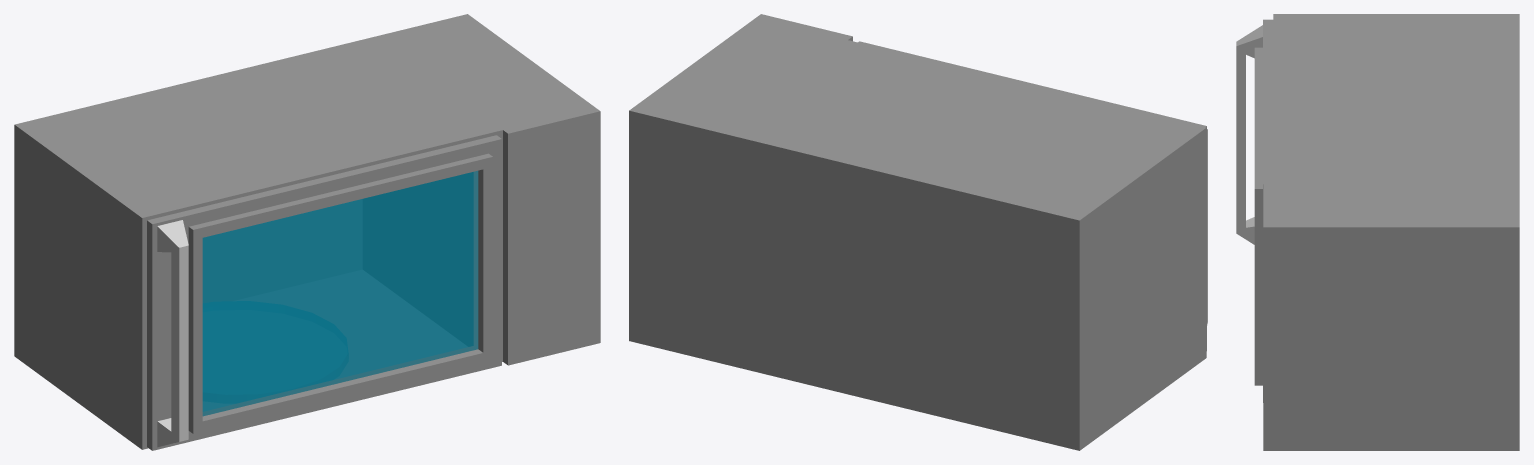
Rendered from Microwave.fbx.
3 views of the same model, side by side, from view 1: azimuth 30°, elevation 25°; view 2: azimuth 150°, elevation 25°; view 3: azimuth 270°, elevation 25° (orthographic). The views are drawn at different scales.
Parts seen in each view (by area): view 1: Microwave, MicrowaveDoor; view 2: Microwave, MicrowaveDoor; view 3: Microwave, MicrowaveDoor.
Part boxes in pixels (box(x1,y1,x2,y2)): Microwave: box(14, 14, 600, 449); MicrowaveDoor: box(147, 135, 501, 450); Microwave: box(629, 14, 1206, 450); MicrowaveDoor: box(858, 41, 1207, 350); Microwave: box(1263, 14, 1519, 450); MicrowaveDoor: box(1236, 19, 1273, 402).
Size of the model in its own units: 82.5 by 40.32 by 46.31.
